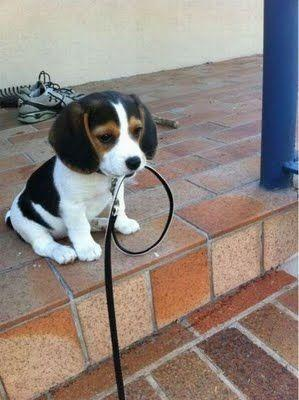puppy-dog: (6, 92, 158, 268)
